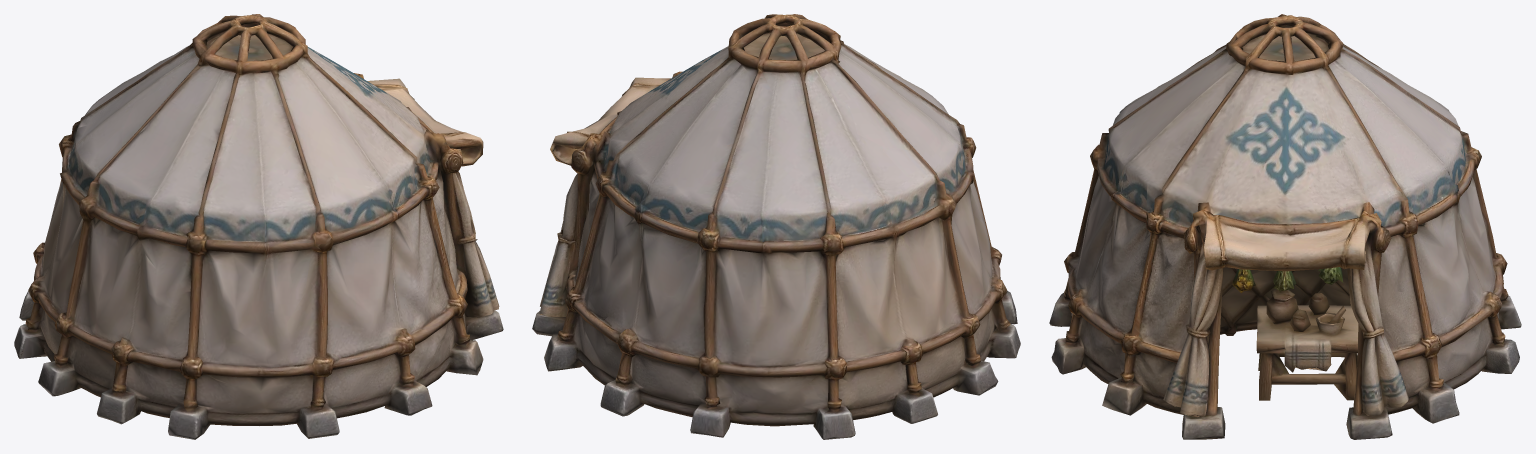
Rendered from sifa-sv1.glb.
3 views of the same model, side by side, from view 1: azimuth 30°, elevation 25°; view 2: azimuth 150°, elevation 25°; view 3: azimuth 270°, elevation 25° (orthographic).
Visible parts, largest first — view 1: tripo_node_e5852ee8-a7cd-45d6-9b15-a578e64ee4f6; view 2: tripo_node_e5852ee8-a7cd-45d6-9b15-a578e64ee4f6; view 3: tripo_node_e5852ee8-a7cd-45d6-9b15-a578e64ee4f6.
Part boxes in pixels (left/top/right/bottom): tripo_node_e5852ee8-a7cd-45d6-9b15-a578e64ee4f6: left=14, top=14, right=503, bottom=439; tripo_node_e5852ee8-a7cd-45d6-9b15-a578e64ee4f6: left=532, top=14, right=1020, bottom=439; tripo_node_e5852ee8-a7cd-45d6-9b15-a578e64ee4f6: left=1049, top=14, right=1521, bottom=439.
Size of the model in its own units: 0.9938 by 0.7529 by 1.
Materials: 1 (1 with a texture image).
